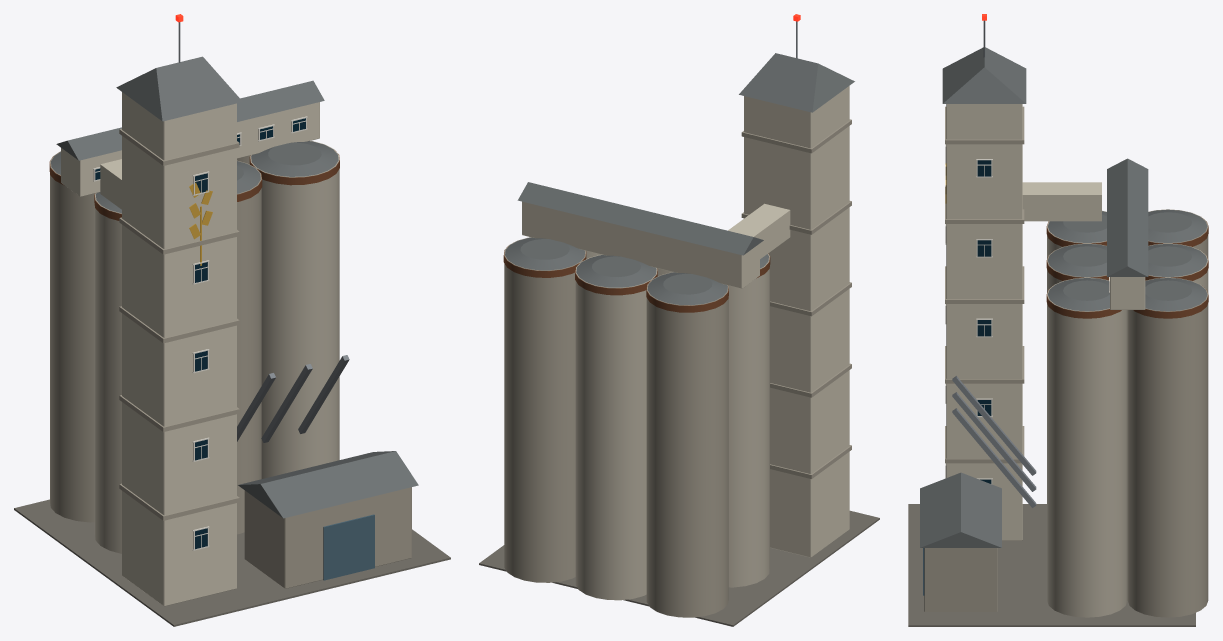
Rendered from elevator.glb.
3 views of the same model, side by side, from view 1: azimuth 30°, elevation 25°; view 2: azimuth 150°, elevation 25°; view 3: azimuth 270°, elevation 25° (orthographic). The views are drawn at different scales.
Parts seen in each view (by area): view 1: elevator; view 2: elevator; view 3: elevator.
Boxes of the visible parts, <box> form: elevator: <box>14,14,450,626</box>; elevator: <box>479,14,879,626</box>; elevator: <box>908,14,1208,626</box>.
Size of the model in its own units: 19.6 by 38.45 by 20.48.
